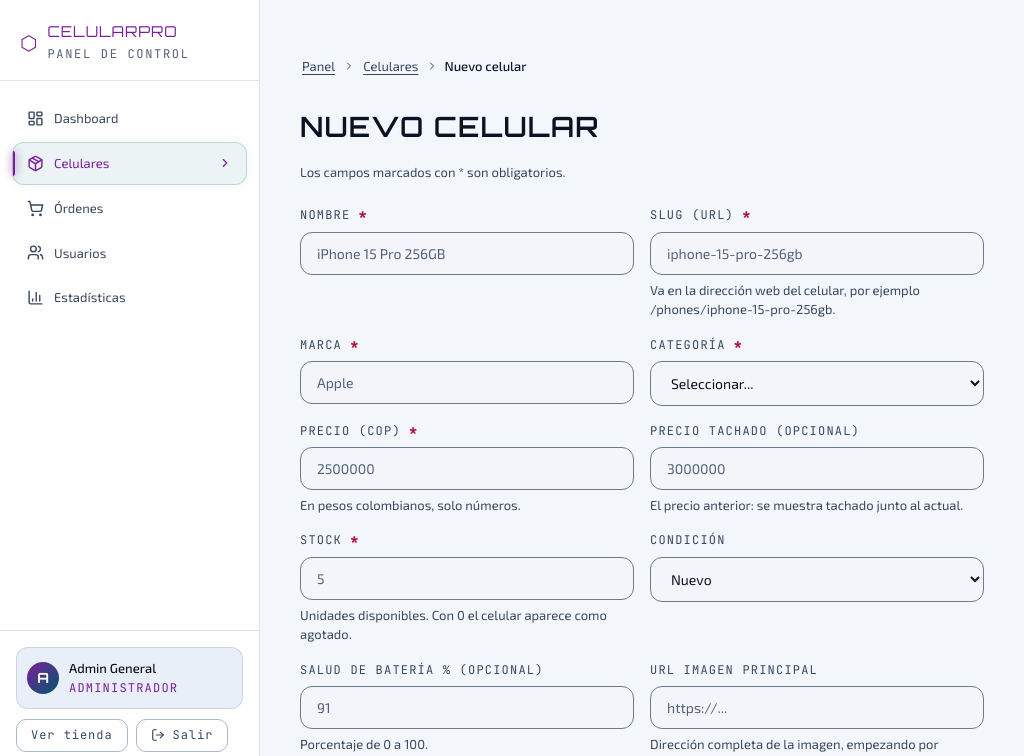
Test: ESC-30 — Administración del catálogo › Camino 4 (1-3-5-7-8-9-19): POST con datos inválidos → el formulario lo frena y no llega al backend
The width and height of the screenshot is (1024, 756).
Type "ab" into the field labelled "Nombre".
click(467, 253); type("ab")  # box 300,232 -> 634,275
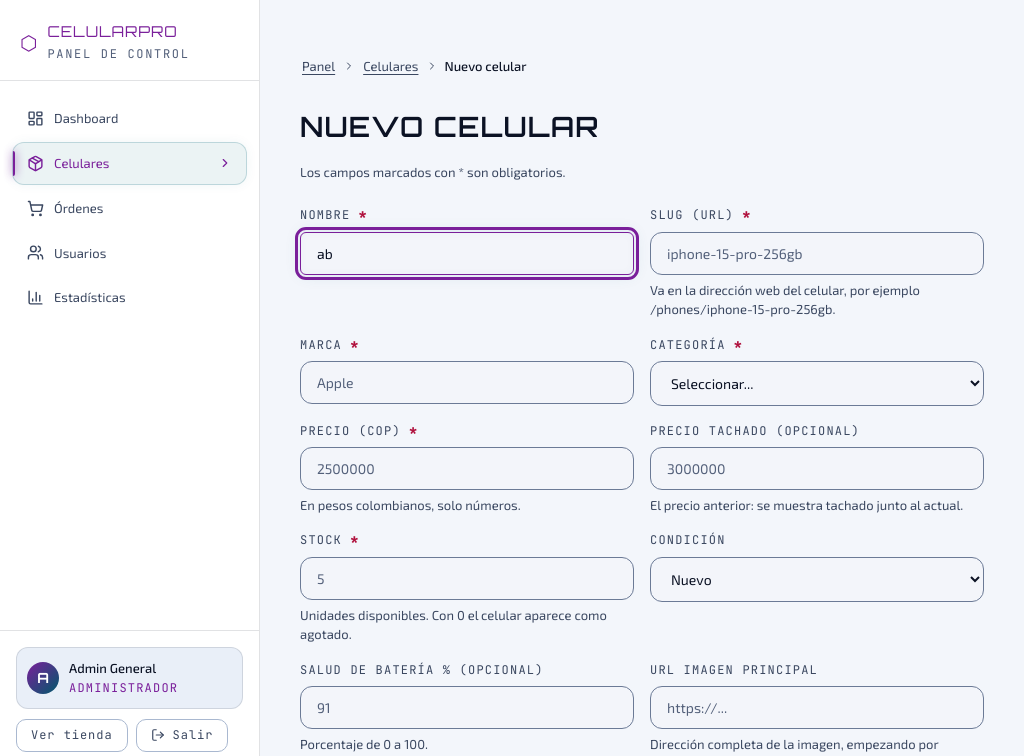
Type "-1" into the number field labelled "Stock".
click(467, 578); type("-1")  # box 300,557 -> 634,600
(page scrolled)
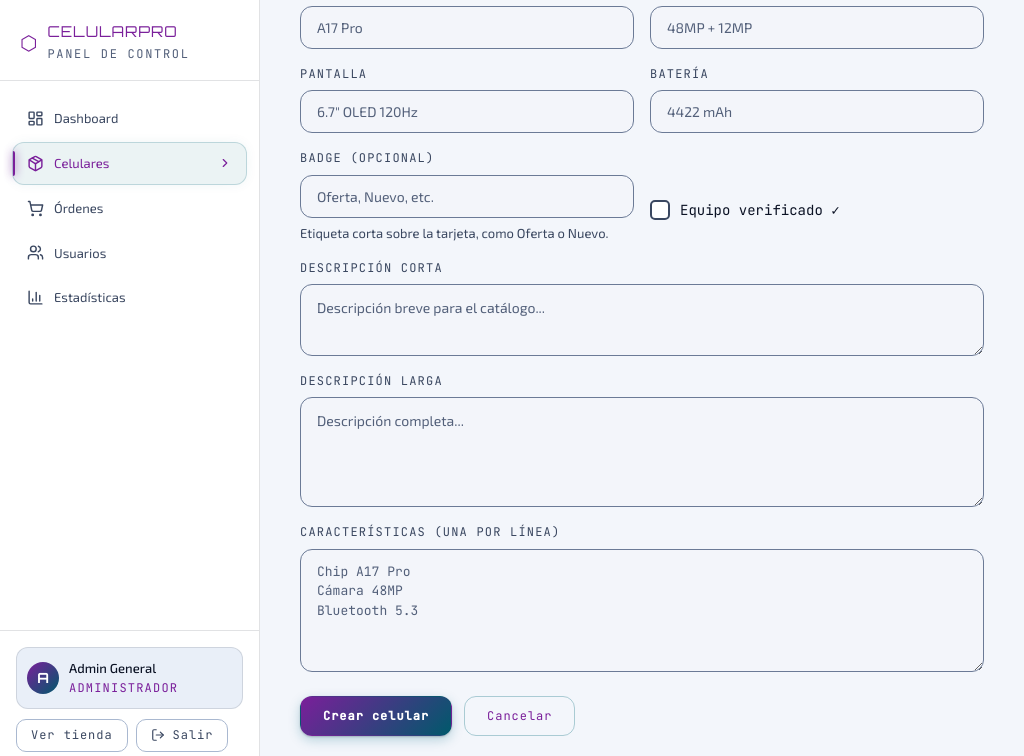
Click the button "Crear celular".
click(376, 716)  # box 300,696 -> 452,736
(page scrolled)
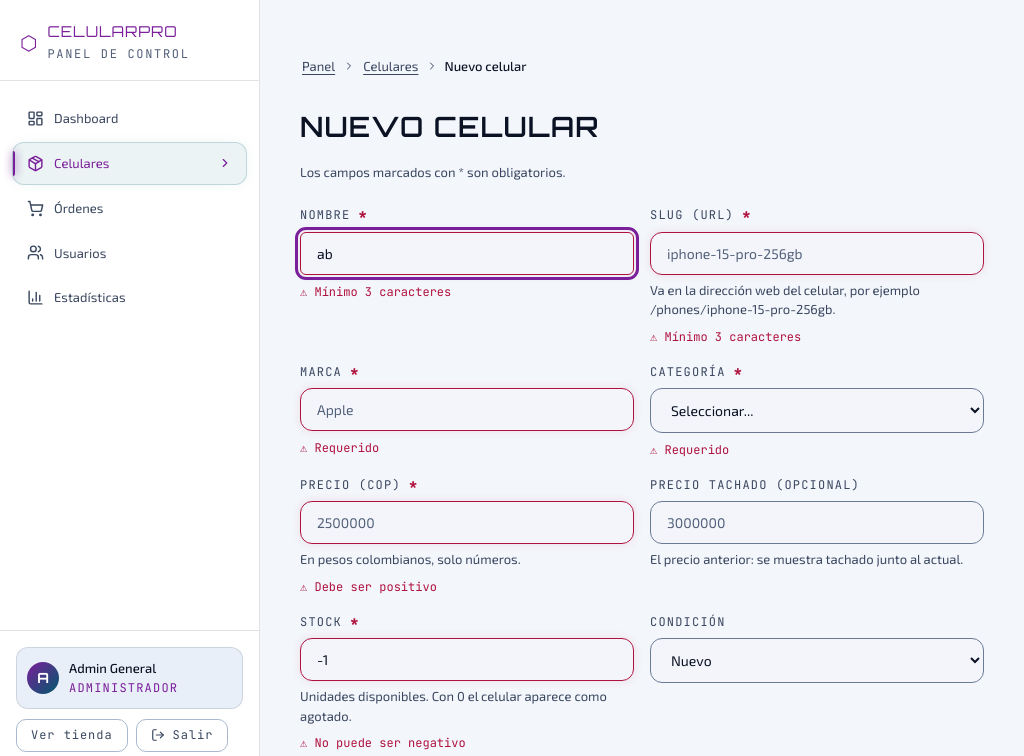
Now the text "Mínimo 3 caracteres" is shown 2 times, box 314,284 -> 451,300; 664,329 -> 801,345
Now the text "No puede ser negativo" is shown, box 314,735 -> 466,751
